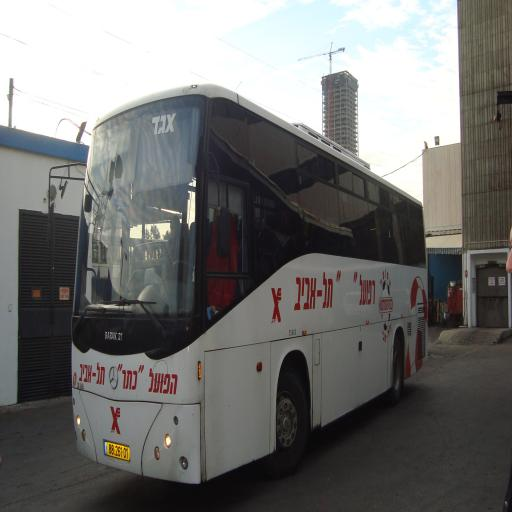bus: (69, 78, 428, 491)
